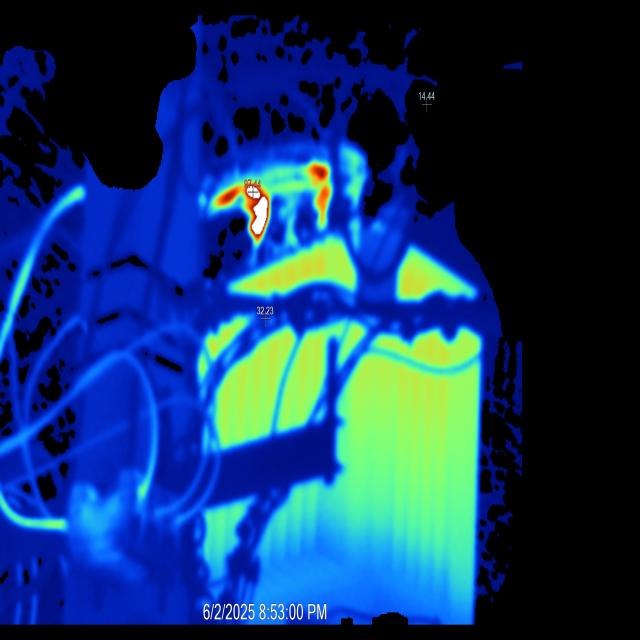Full Wire Overload PF: (0, 185, 85, 359), (0, 491, 68, 531)
Loose Joint F: (208, 180, 270, 241), (307, 160, 330, 224)
